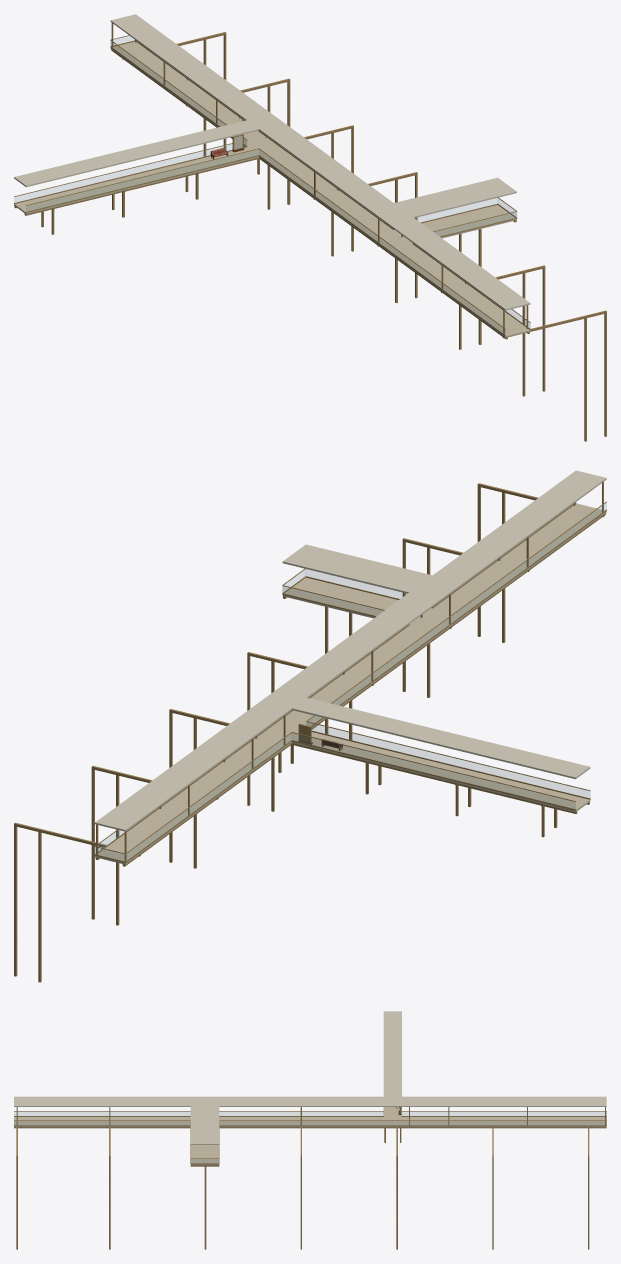
The model's file is D04_STARBOARD_SOUTH_RECEIVING_r003.glb.
3 renders of one model, top to bottom at view 1: azimuth 30°, elevation 25°; view 2: azimuth 150°, elevation 25°; view 3: azimuth 270°, elevation 25°, orthographic. The views are drawn at different scales.
Parts seen in each view (by area): view 1: D04SFP_SouthReceivingRoof, D04SFP_SouthReceivingFloor, D04SFP_OuterGuard_02, D04SFP_OuterGuard_01, D04SFP_OuterGuard_11, D04SFP_OuterGuard_10, D04SFP_StreetLong_42.2; view 2: D04SFP_SouthReceivingRoof, D04SFP_SouthReceivingFloor, D04SFP_OuterGuard_11, D04SFP_OuterGuard_01, D04SFP_OuterGuard_02, D04SFP_OuterGuard_10, D04SFP_StreetLong_42.2, D04SFP_OuterGuard_07, D04SFP_OuterGuard_05; view 3: D04SFP_SouthReceivingRoof, D04SFP_SouthReceivingFloor, D04SFP_OuterGuard_08, D04SFP_OuterGuard_02, D04SFP_StreetLong_45.8, D04SFP_OuterGuard_10, D04SFP_OuterGuard_08_Base, D04SFP_OuterGuard_04, D04SFP_OuterGuard_08_Cap, D04SFP_OuterGuard_04_Base, D04SFP_OuterGuard_02_Base, D04SFP_OuterGuard_02_Cap.
Boxes of the visible parts, x1,y1,x2,y2 form: D04SFP_SouthReceivingRoof: (14, 14, 530, 310); D04SFP_SouthReceivingFloor: (14, 41, 530, 337); D04SFP_OuterGuard_02: (259, 150, 505, 334); D04SFP_OuterGuard_01: (26, 149, 258, 211); D04SFP_OuterGuard_11: (14, 141, 246, 202); D04SFP_OuterGuard_10: (111, 41, 246, 145); D04SFP_StreetLong_42.2: (111, 49, 507, 339); D04SFP_SouthReceivingRoof: (95, 470, 606, 831); D04SFP_SouthReceivingFloor: (95, 503, 606, 864); D04SFP_OuterGuard_11: (292, 733, 575, 808); D04SFP_OuterGuard_01: (307, 722, 590, 797); D04SFP_OuterGuard_02: (307, 503, 606, 725); D04SFP_OuterGuard_10: (126, 733, 291, 860); D04SFP_StreetLong_42.2: (122, 513, 605, 866); D04SFP_OuterGuard_07: (283, 586, 382, 615); D04SFP_OuterGuard_05: (306, 569, 405, 598); D04SFP_SouthReceivingRoof: (14, 1011, 606, 1144); D04SFP_SouthReceivingFloor: (14, 1107, 606, 1165); D04SFP_OuterGuard_08: (220, 1121, 606, 1124); D04SFP_OuterGuard_02: (14, 1112, 383, 1115); D04SFP_StreetLong_45.8: (14, 1127, 606, 1128); D04SFP_OuterGuard_10: (402, 1112, 606, 1115); D04SFP_OuterGuard_08_Base: (219, 1125, 606, 1126); D04SFP_OuterGuard_04: (14, 1121, 189, 1124); D04SFP_OuterGuard_08_Cap: (219, 1120, 606, 1120); D04SFP_OuterGuard_04_Base: (14, 1125, 190, 1126); D04SFP_OuterGuard_02_Base: (14, 1116, 383, 1116); D04SFP_OuterGuard_02_Cap: (14, 1111, 383, 1111).
Size of the model in its own units: 59.04 by 23.9 by 111.
Materials: 12 (10 with a texture image).
